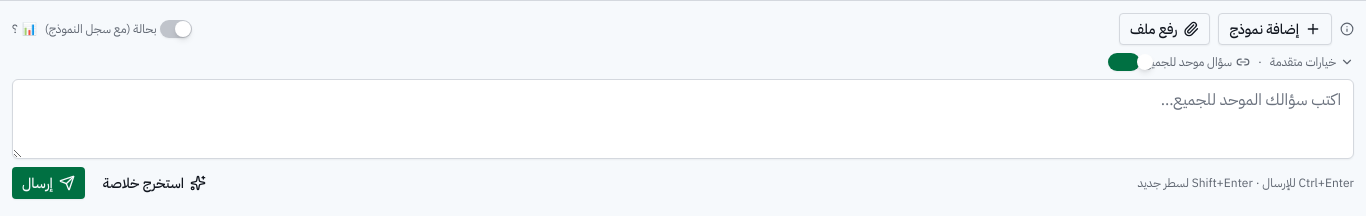
Test: Composer — إمكانيات الإرسال › يعرض تلميح الإرسال، وعدّاد الطول لا يظهر إلا مع وجود نص
The image size is (1366, 216).
Expected: the text "Ctrl+Enter للإرسال · Shift+Enter لسطر جديد" is shown, [1137,174,1354,192]
Type "مرحبا" into the text box labelled "اكتب سؤالك الموحد للجميع…" at (683, 119), box [12,79,1354,159]
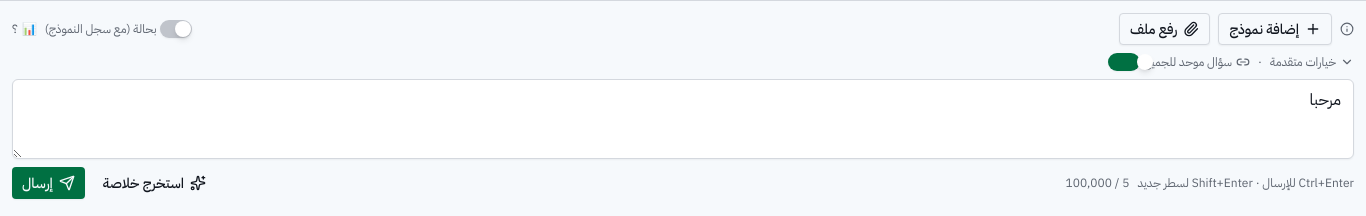
Expected: the text titled "طول السؤال" reads "5 / 100,000", [1066,174,1129,192]
